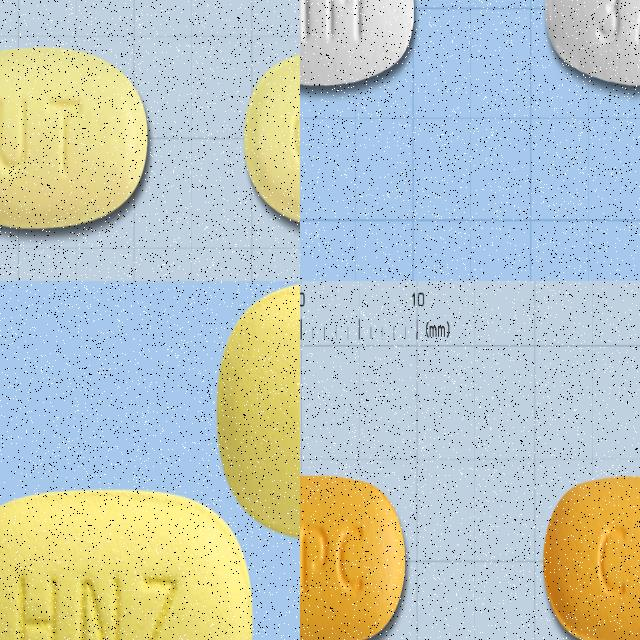Amoclan - Myungmoon: (300, 0, 417, 90), (542, 0, 640, 90)
Claniz - 500mg: (0, 484, 257, 640), (215, 281, 300, 545)
Clarithromycin Tab- Dongkwang: (300, 470, 409, 640), (542, 476, 640, 640)
Claxin: (0, 43, 150, 235), (242, 42, 300, 232)
